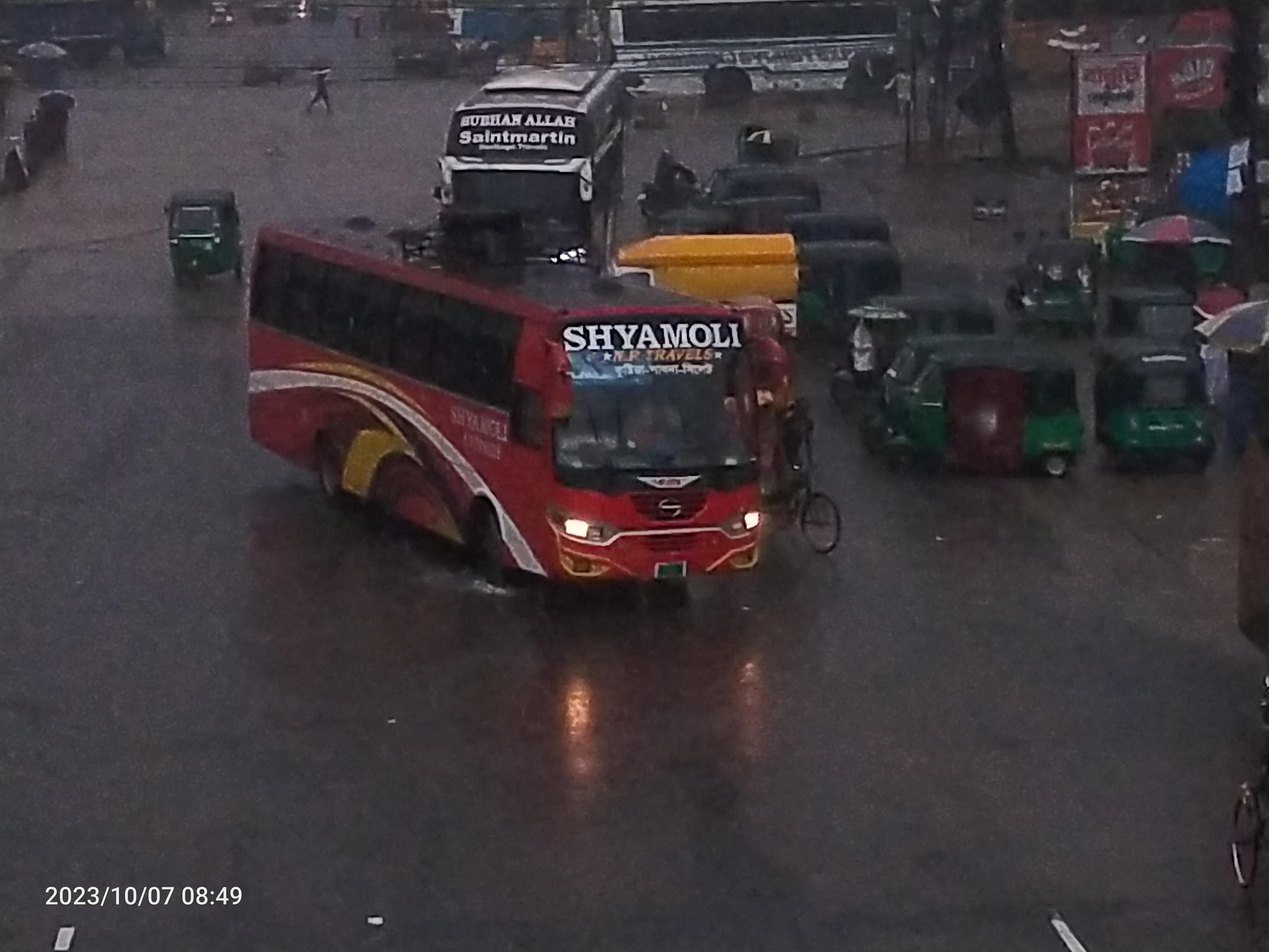Bus: (230, 193, 837, 646), (420, 47, 648, 329), (588, 0, 950, 137), (988, 0, 1257, 107)
